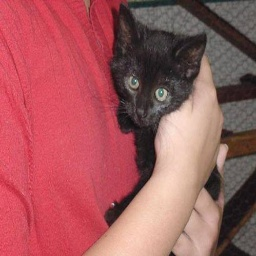cat: (94, 6, 231, 226)
